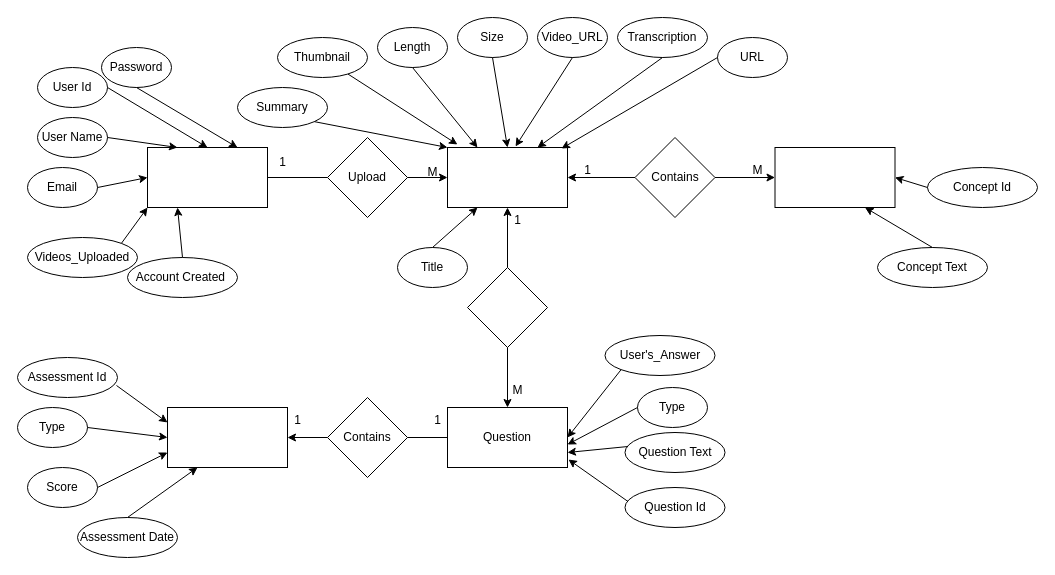
The diagram is 1055 pixels wide and 575 high, and some of its shapes have lost their labels. The shapes that lost their labels are listed below. From the top down, each one's centre as x and y in pixels, then its label:
(207,177): User
(507,177): Video
(834,177): Key Concept
(507,307): Creates
(227,437): Assessment
